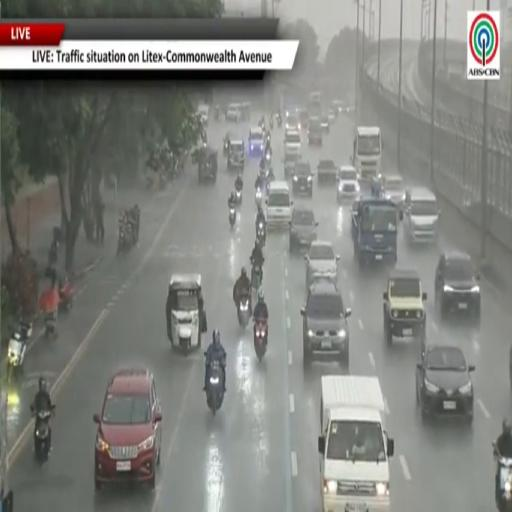car: (94, 368, 161, 489), (416, 345, 474, 422), (301, 280, 351, 365), (383, 269, 426, 345), (435, 251, 480, 323), (403, 187, 440, 243), (305, 240, 339, 290), (289, 207, 318, 253), (337, 166, 359, 203), (292, 162, 312, 197), (384, 175, 405, 207), (228, 140, 244, 170), (318, 159, 337, 184), (249, 126, 264, 155), (284, 151, 299, 178), (308, 119, 323, 146), (285, 131, 301, 154), (351, 197, 360, 237), (285, 112, 300, 131), (226, 104, 241, 122), (198, 104, 209, 125), (299, 110, 309, 130), (241, 102, 251, 121), (321, 115, 330, 133), (328, 107, 338, 123), (509, 346, 511, 389)
motorcycle: (7, 322, 32, 381), (34, 406, 55, 465), (493, 443, 511, 511), (39, 286, 59, 339), (206, 361, 224, 414), (254, 318, 268, 361), (117, 223, 134, 254), (237, 295, 251, 328), (59, 279, 73, 311), (45, 311, 57, 339), (256, 222, 266, 248), (252, 265, 262, 291), (254, 187, 262, 206), (229, 206, 236, 227), (159, 173, 167, 190), (259, 164, 267, 180), (265, 150, 271, 166), (236, 189, 242, 204), (224, 140, 229, 156), (265, 132, 270, 145), (277, 115, 282, 127), (259, 119, 264, 131), (270, 116, 273, 129)
truck: (318, 376, 394, 511), (351, 197, 402, 267), (352, 126, 382, 182), (0, 392, 13, 511)
